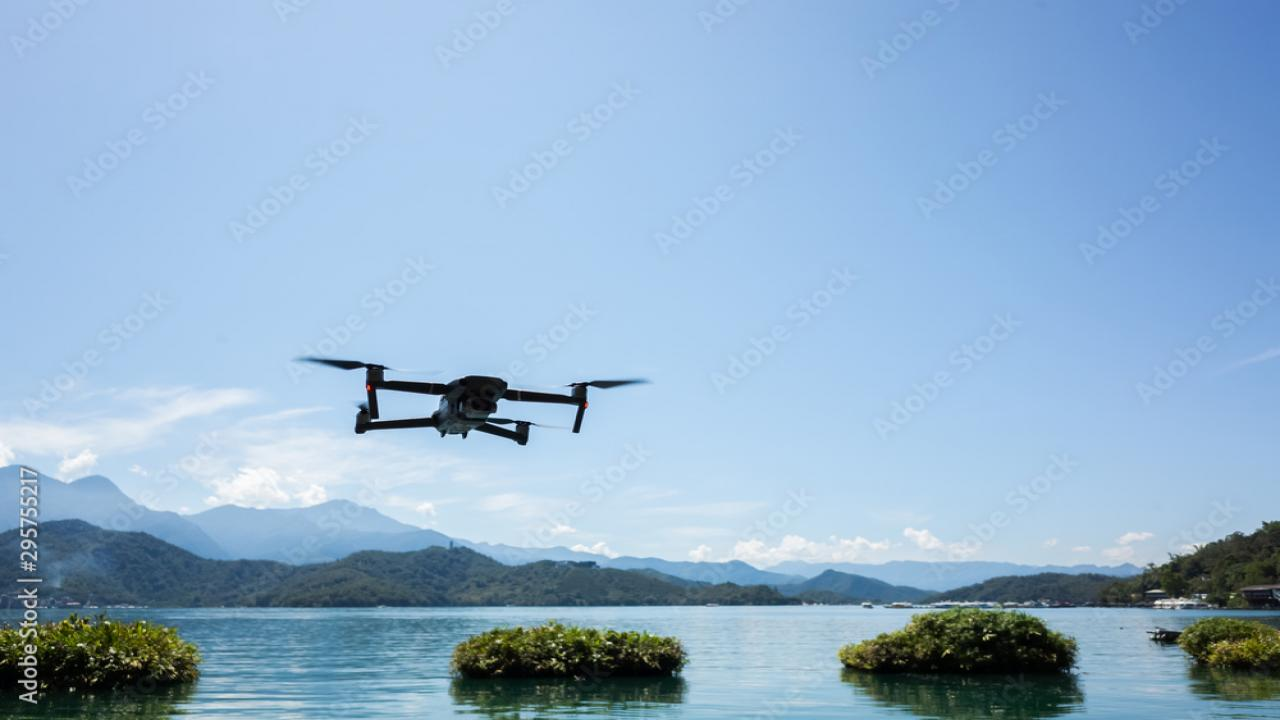Drone: (286, 341, 668, 465)
